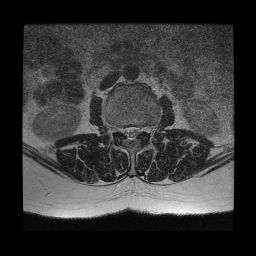CCS_normal: (129, 121, 133, 145)
LFS_stenosis: (140, 122, 146, 138)
LLS_normal: (134, 123, 140, 140)
RFS_stenosis: (117, 122, 123, 138)
RLS_normal: (122, 122, 128, 140)
